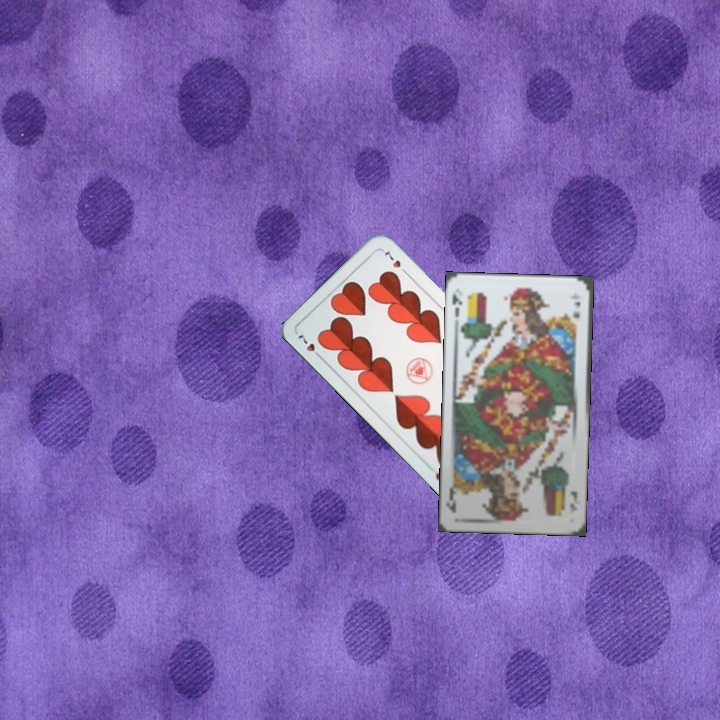EK: (448, 287, 465, 319), (566, 487, 582, 515)
H7: (293, 331, 326, 362)
